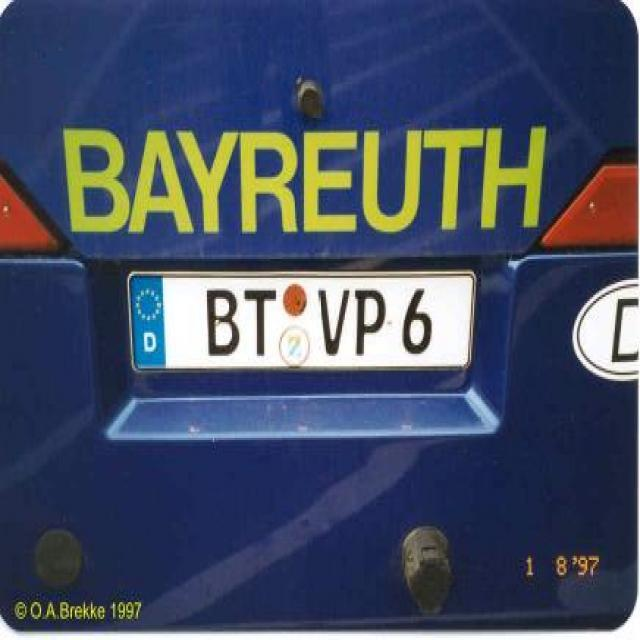license-plates: (129, 272, 476, 371)
